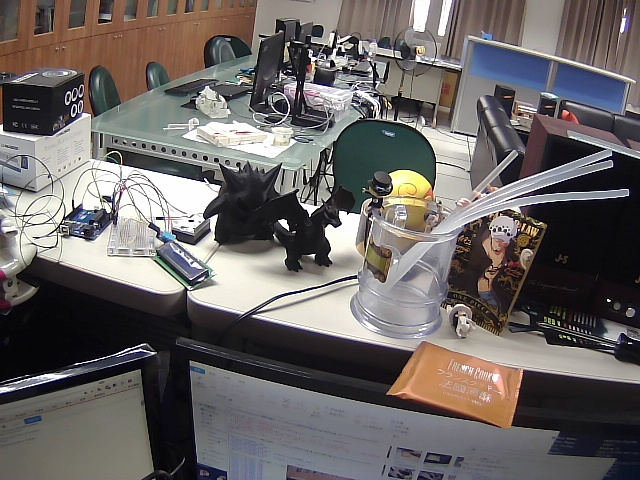frenchcookie: (375, 338, 536, 442)
